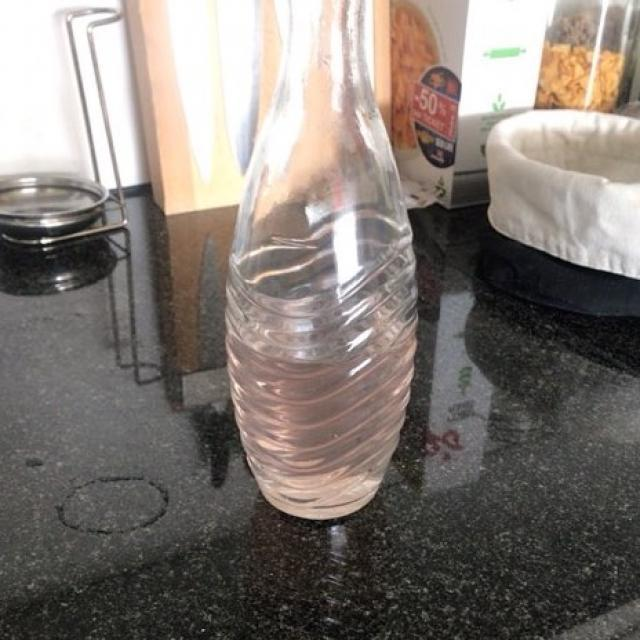water: (213, 299, 413, 532)
